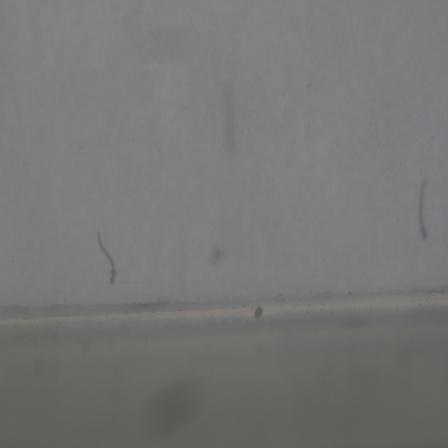Jentik-Nyamuk: (92, 226, 121, 291)
